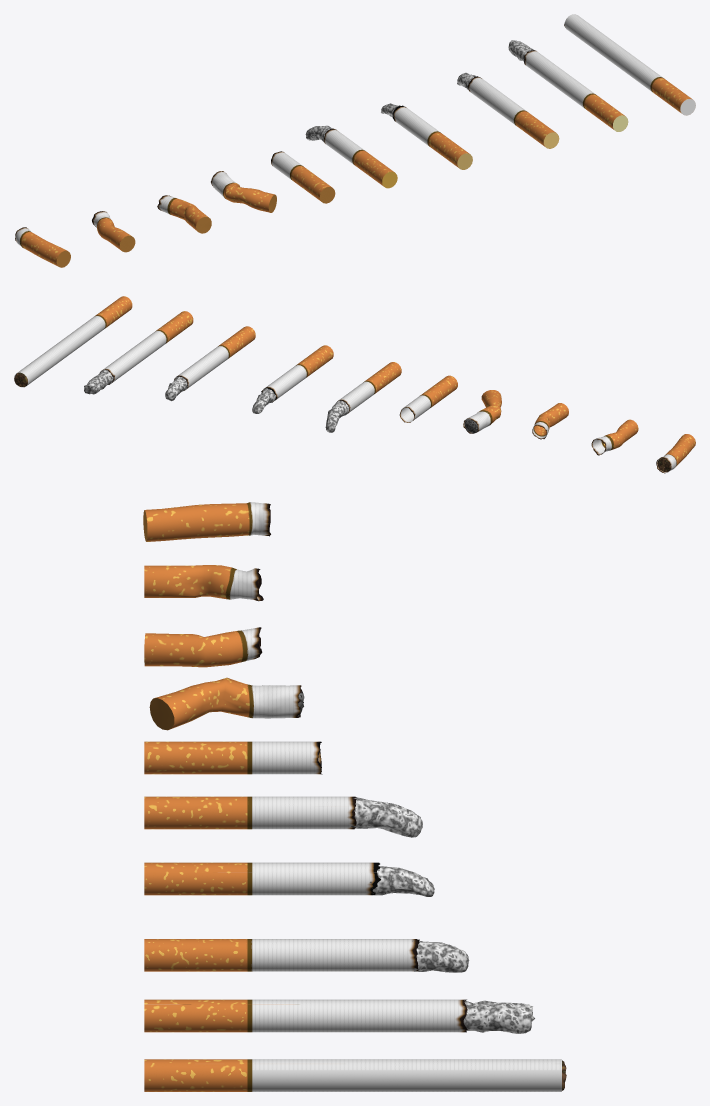
3 views of the same model, one above another, from view 1: azimuth 30°, elevation 25°; view 2: azimuth 150°, elevation 25°; view 3: azimuth 270°, elevation 25° (orthographic). The views are drawn at different scales.
Visible parts, largest first — view 1: burning_cigarette.001, burning_cigarette.002, burning_cigarette.003, burning_cigarette.004, burning_cigarette.005, burning_cigarette.006, burning_cigarette.007, burning_cigarette, burning_cigarette.008, burning_cigarette.009; view 2: burning_cigarette.001, burning_cigarette.002, burning_cigarette.003, burning_cigarette.004, burning_cigarette.005, burning_cigarette.006, burning_cigarette.007, burning_cigarette.009, burning_cigarette, burning_cigarette.008; view 3: burning_cigarette.001, burning_cigarette.002, burning_cigarette.003, burning_cigarette.004, burning_cigarette.005, burning_cigarette.006, burning_cigarette.007, burning_cigarette, burning_cigarette.008, burning_cigarette.009.
Boxes of the visible parts, bbox=[...] form: burning_cigarette.001: bbox=[564, 14, 695, 115]; burning_cigarette.002: bbox=[508, 40, 628, 131]; burning_cigarette.003: bbox=[457, 72, 559, 148]; burning_cigarette.004: bbox=[381, 103, 472, 169]; burning_cigarette.005: bbox=[305, 125, 397, 188]; burning_cigarette.006: bbox=[271, 151, 335, 203]; burning_cigarette.007: bbox=[211, 171, 276, 212]; burning_cigarette: bbox=[15, 227, 70, 267]; burning_cigarette.008: bbox=[157, 195, 211, 233]; burning_cigarette.009: bbox=[92, 211, 135, 252]; burning_cigarette.001: bbox=[14, 296, 132, 387]; burning_cigarette.002: bbox=[84, 311, 193, 394]; burning_cigarette.003: bbox=[165, 326, 255, 401]; burning_cigarette.004: bbox=[252, 345, 333, 413]; burning_cigarette.005: bbox=[325, 362, 401, 432]; burning_cigarette.006: bbox=[399, 375, 457, 422]; burning_cigarette.007: bbox=[463, 390, 501, 433]; burning_cigarette.009: bbox=[591, 419, 638, 455]; burning_cigarette: bbox=[656, 434, 695, 473]; burning_cigarette.008: bbox=[532, 403, 568, 439]; burning_cigarette.001: bbox=[144, 1059, 566, 1091]; burning_cigarette.002: bbox=[144, 999, 534, 1033]; burning_cigarette.003: bbox=[144, 939, 469, 972]; burning_cigarette.004: bbox=[144, 862, 434, 896]; burning_cigarette.005: bbox=[144, 796, 422, 837]; burning_cigarette.006: bbox=[144, 741, 322, 774]; burning_cigarette.007: bbox=[149, 677, 304, 730]; burning_cigarette: bbox=[143, 502, 270, 541]; burning_cigarette.008: bbox=[144, 627, 262, 667]; burning_cigarette.009: bbox=[144, 565, 263, 601].
Bounding box in the file's own units: 7.53 × 0.2671 × 2.36.
